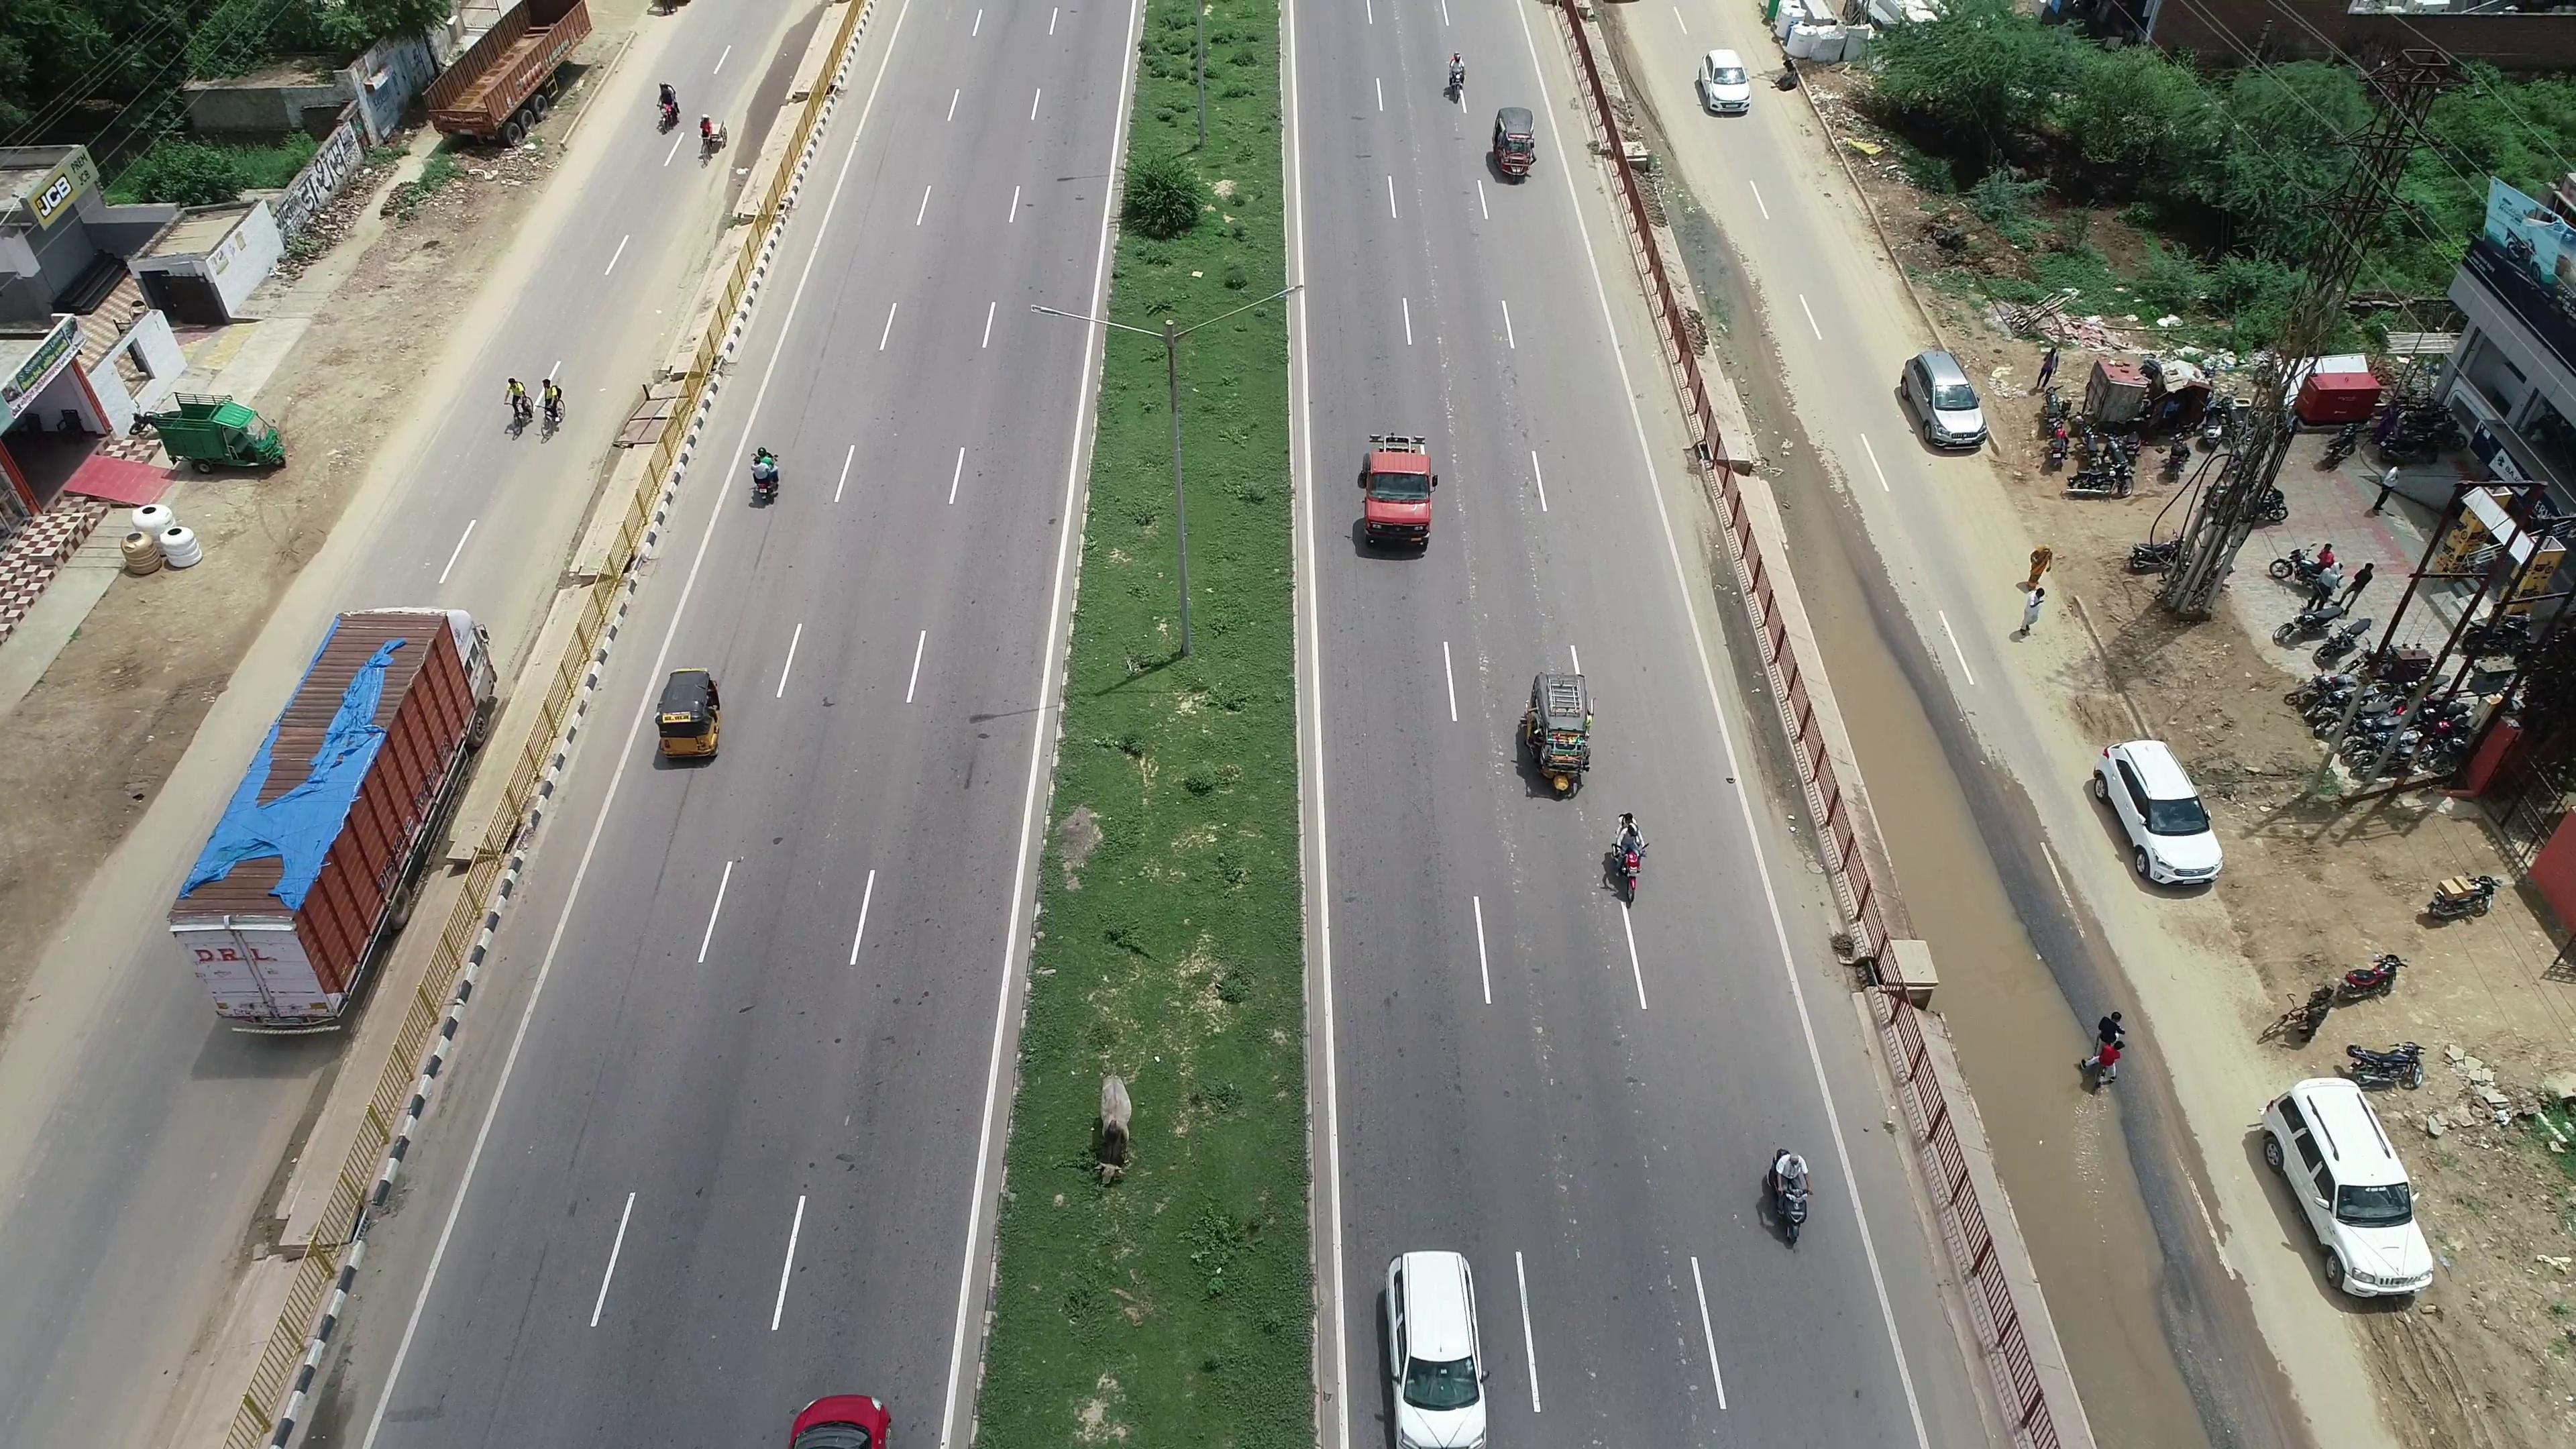Ravelling: (1527, 994, 1592, 1288), (1474, 658, 1529, 950)
Waterlogging: (1808, 529, 2008, 964), (1960, 962, 2160, 1338)
